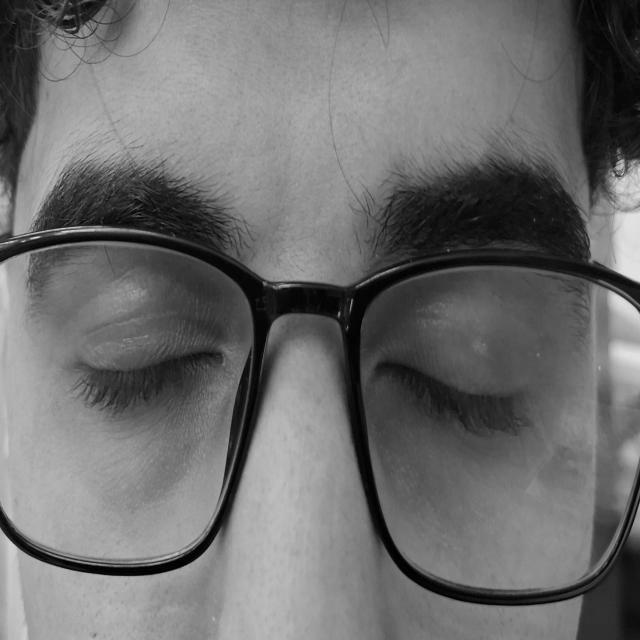real: (36, 214, 572, 603)
